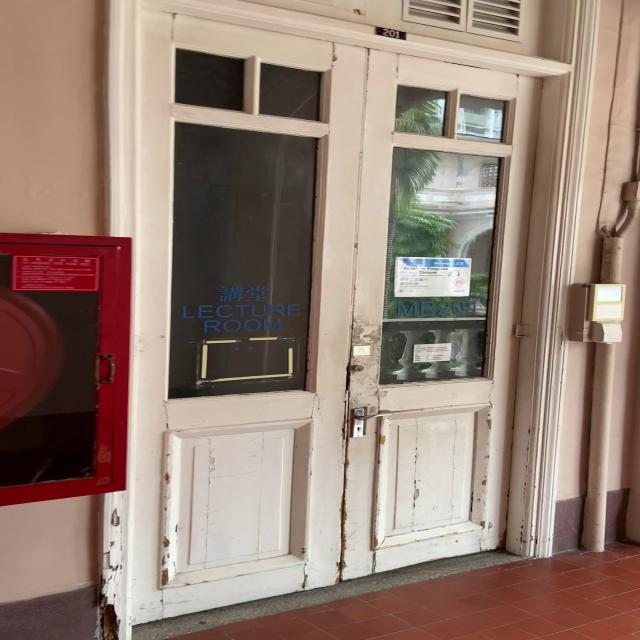room201: (371, 26, 410, 42)
room201Window: (388, 299, 483, 317)
